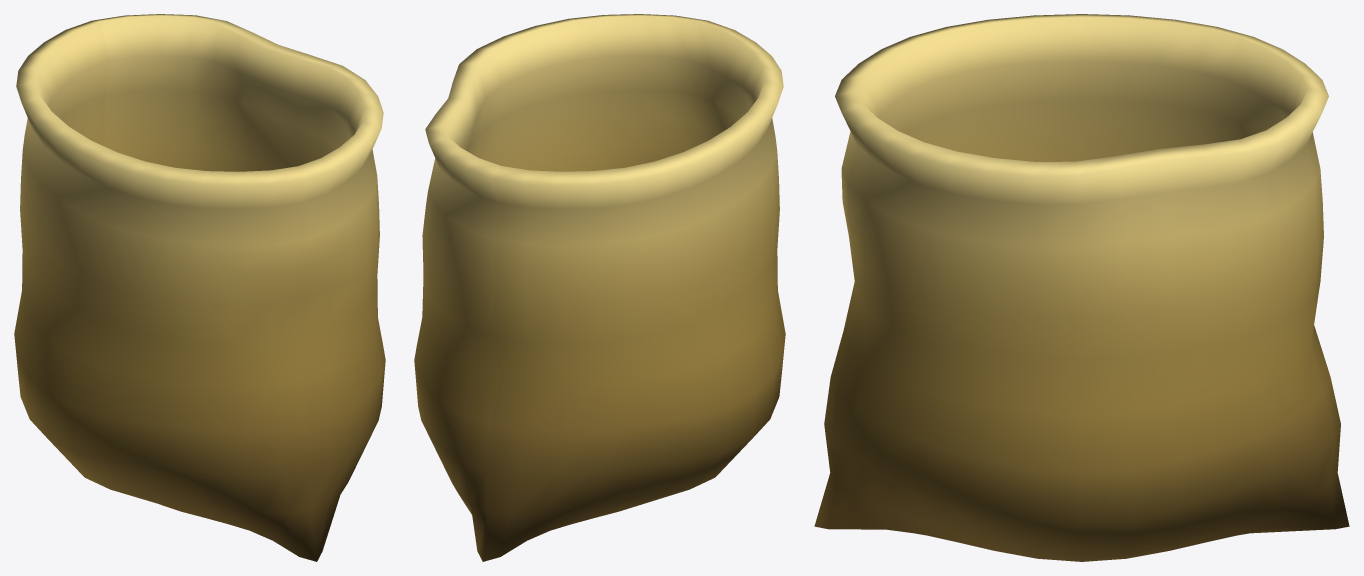
Rendered from bagCube_045.fbx.
The picture shows the model from 3 angles, left to right: view 1: azimuth 30°, elevation 25°; view 2: azimuth 150°, elevation 25°; view 3: azimuth 270°, elevation 25°; orthographic projection. The views are drawn at different scales.
Parts seen in each view (by area): view 1: Cube.045; view 2: Cube.045; view 3: Cube.045.
Boxes of the visible parts, left/top/right/bottom form: Cube.045: left=14, top=14, right=385, bottom=561; Cube.045: left=414, top=14, right=785, bottom=561; Cube.045: left=814, top=14, right=1349, bottom=561.
Bounding box in the file's own units: 90.27 × 107 × 117.
